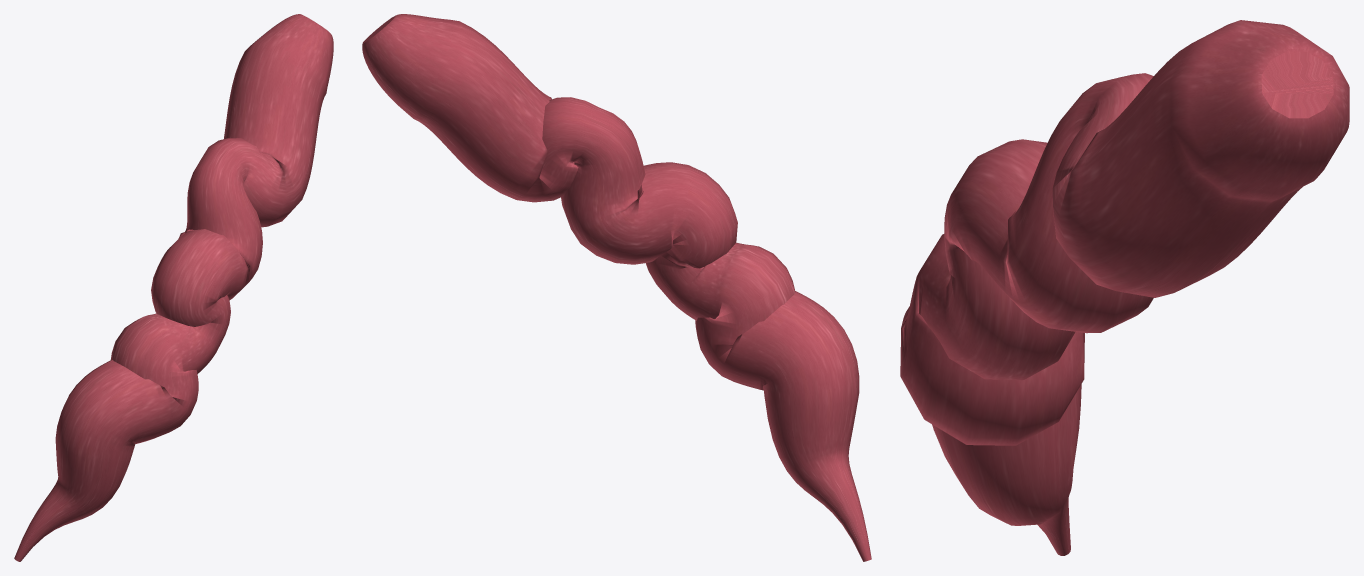
Rendered from Vesicula Seminalis + Ductus Seminalis.glb.
The picture shows the model from 3 angles, left to right: view 1: azimuth 30°, elevation 25°; view 2: azimuth 150°, elevation 25°; view 3: azimuth 270°, elevation 25°; orthographic projection. The views are drawn at different scales.
Visible parts, largest first — view 1: BézierCurve.003; view 2: BézierCurve.003; view 3: BézierCurve.003.
Boxes of the visible parts, x1,y1,x2,y2 form: BézierCurve.003: [14, 14, 333, 561]; BézierCurve.003: [362, 14, 871, 561]; BézierCurve.003: [900, 20, 1349, 555].
Bounding box in the file's own units: 0.6411 × 0.6937 × 0.3359.
Materials: 1 (1 with a texture image).
